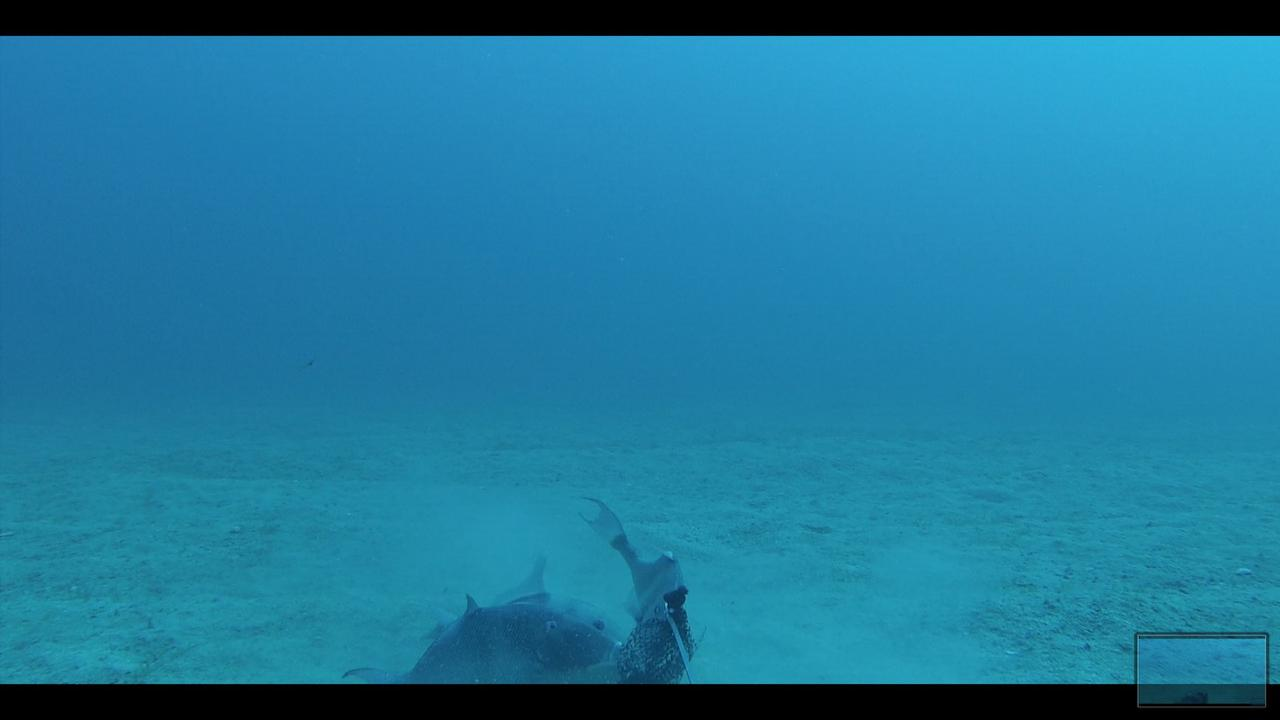balistes: (329, 589, 622, 681), (396, 556, 643, 652), (572, 485, 687, 628)
